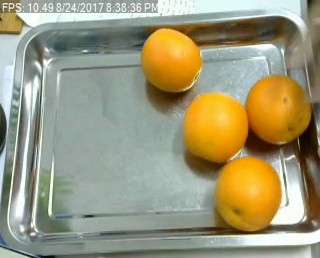Orange: (214, 157, 282, 231), (182, 92, 248, 162), (247, 75, 310, 143), (140, 28, 201, 91)
